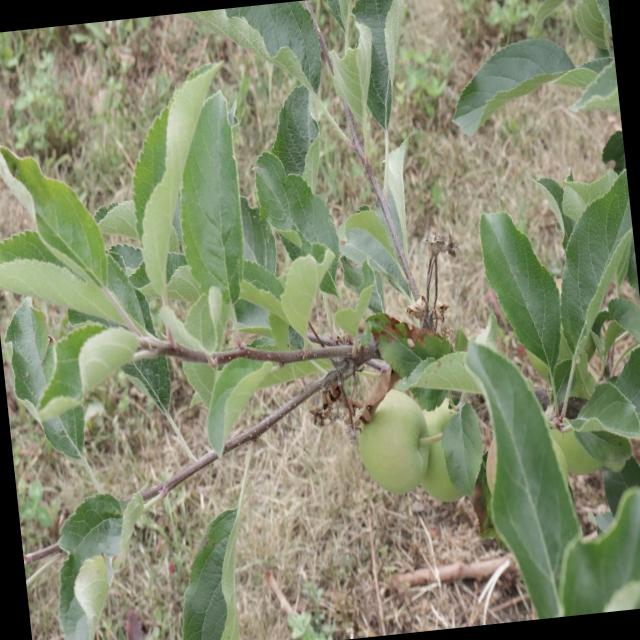-FireBlight-: (321, 368, 393, 418)
